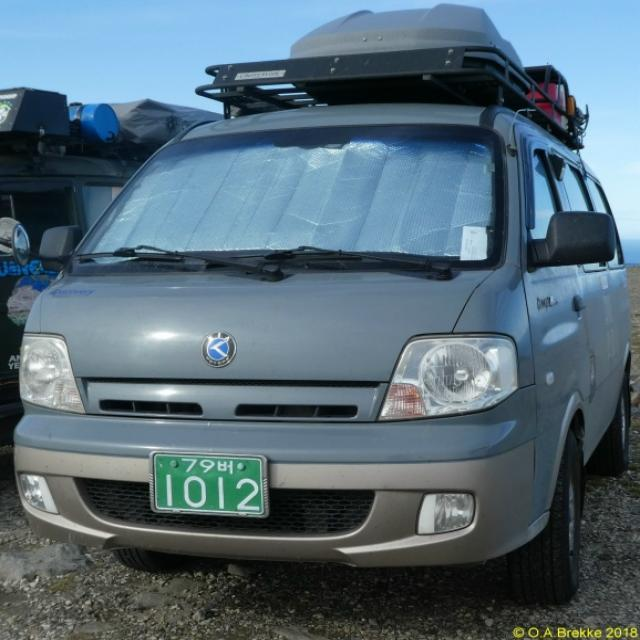car: (119, 435, 309, 540)
